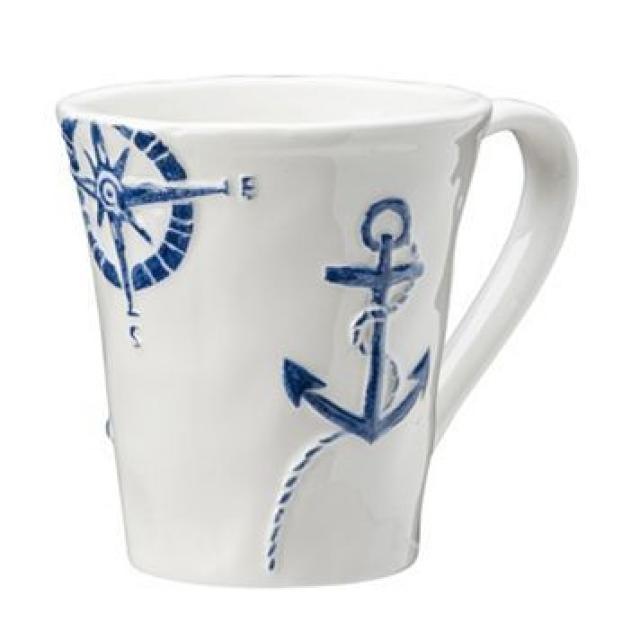glass cup: (56, 75, 579, 587)
